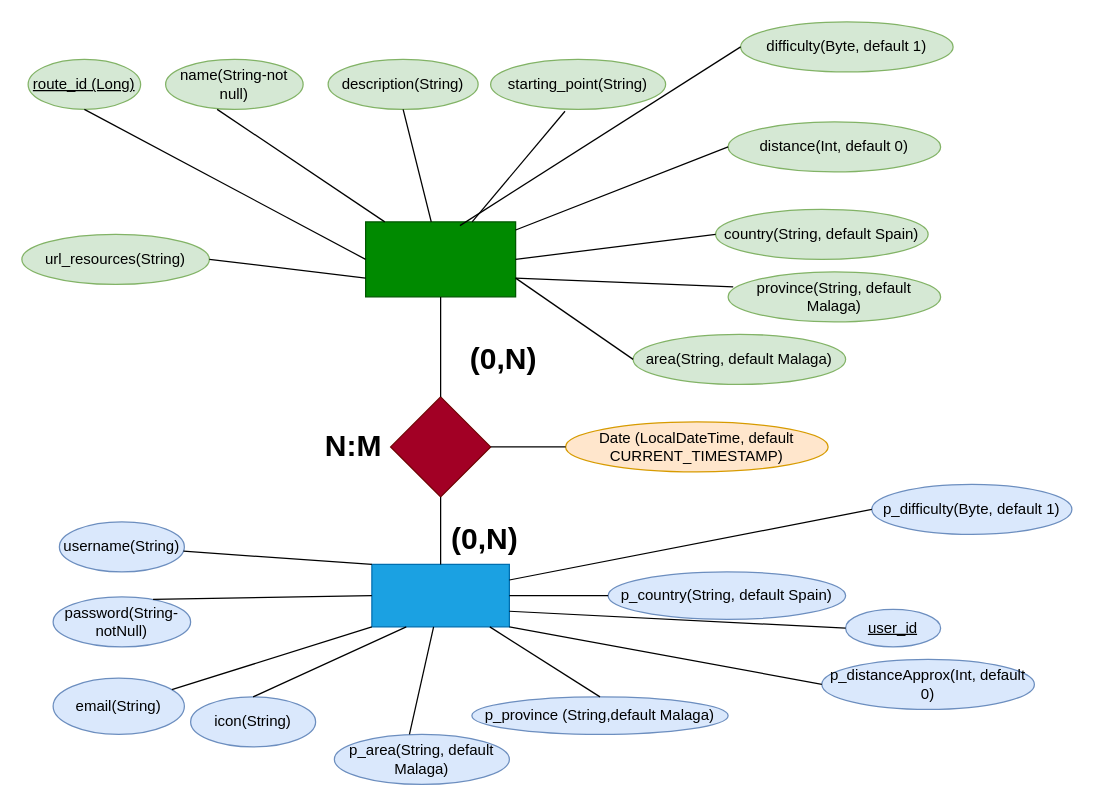
This 1094x806 diagram has some shape labels left out. Here are the shapes that lost their labels. From the top down, the centre of each, then its label:
At point (440, 259): "Route".
At point (440, 446): "Meeting".
At point (440, 595): "User".
